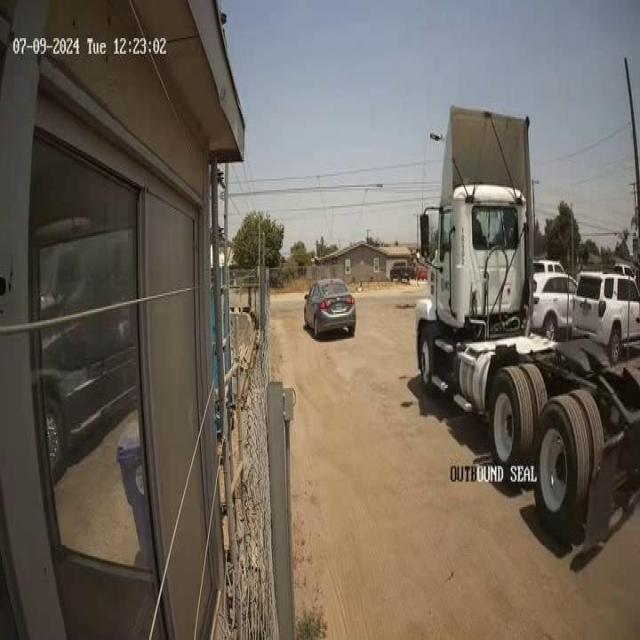BOBTAIL: (414, 102, 638, 543)
